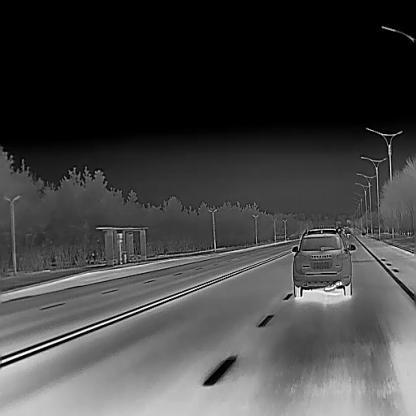car: (291, 227, 356, 297), (343, 229, 351, 237)
